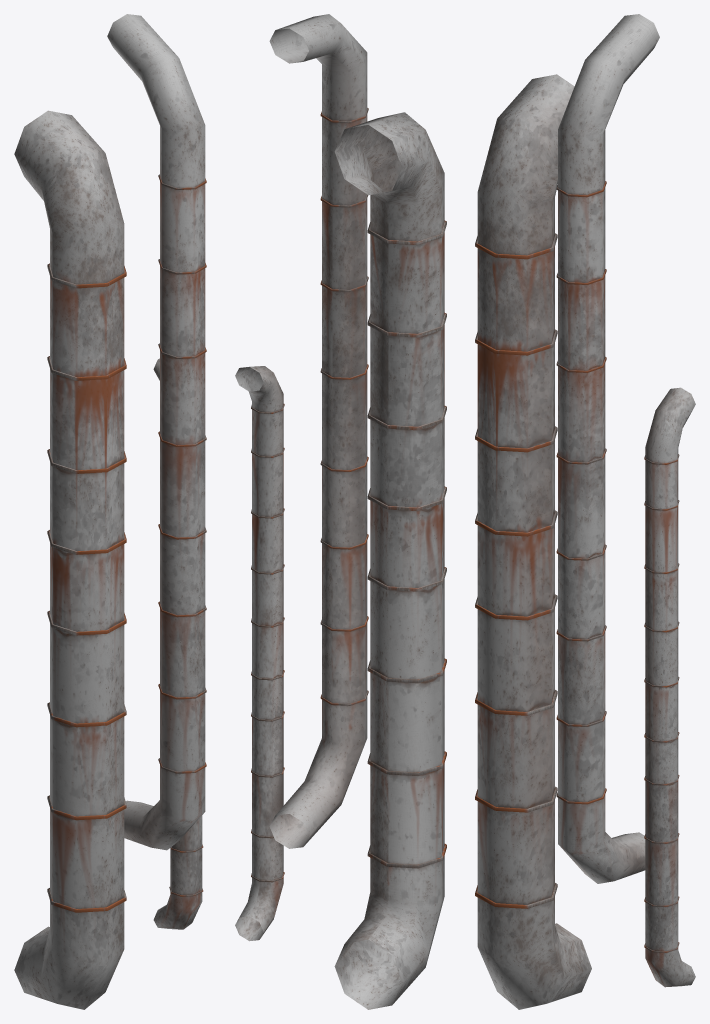
The model's file is Pipes_Model.fbx.
3 views of the same model, side by side, from view 1: azimuth 30°, elevation 25°; view 2: azimuth 150°, elevation 25°; view 3: azimuth 330°, elevation 25° (orthographic). The views are drawn at different scales.
Parts seen in each view (by area): view 1: Cylinder; view 2: Cylinder; view 3: Cylinder.
Boxes of the visible parts, bbox=[...] form: Cylinder: bbox=[14, 14, 206, 1009]; Cylinder: bbox=[235, 14, 446, 1009]; Cylinder: bbox=[475, 14, 695, 1009].
Bounding box in the file's own units: 505 × 2727 × 351.
